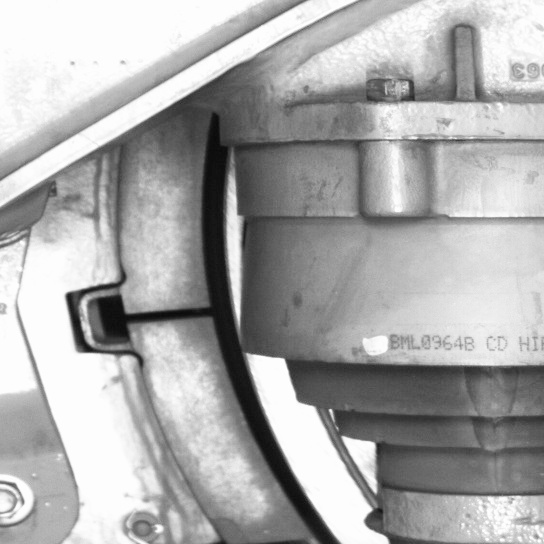KnifeSwitch: (130, 142, 340, 542)
